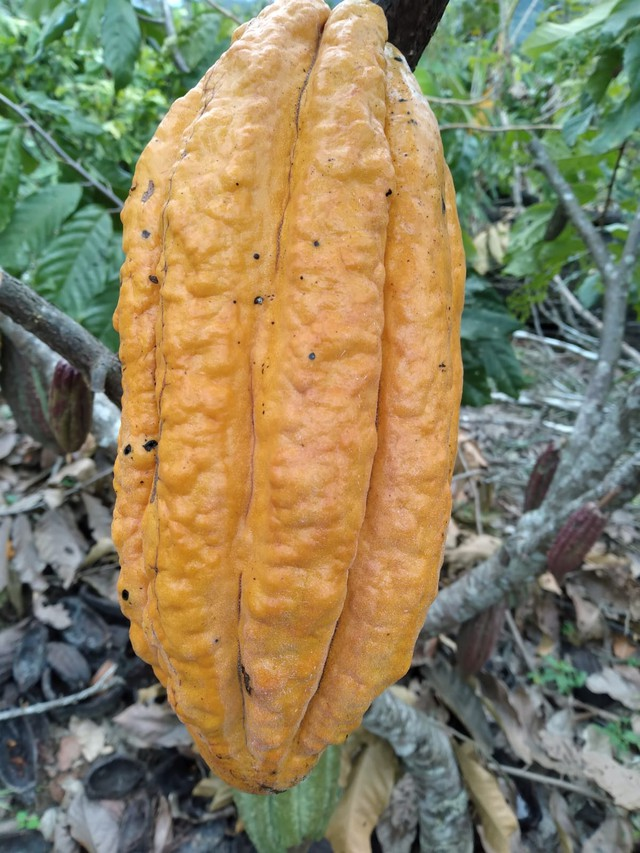Health: (105, 1, 473, 799)
